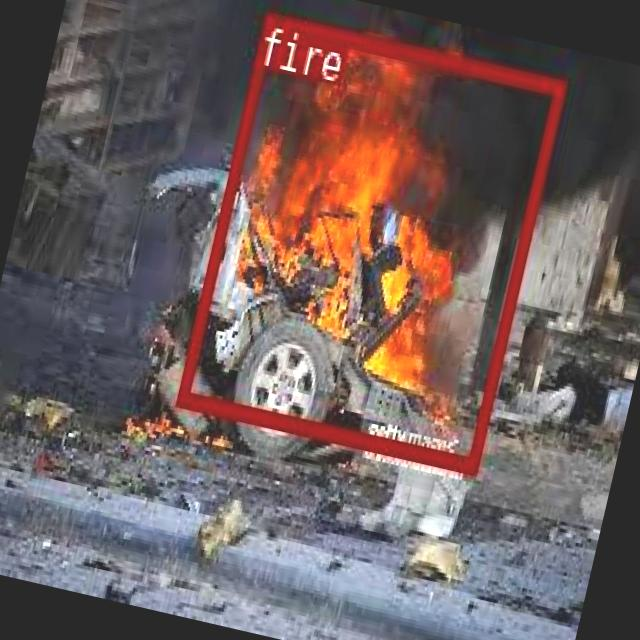fire: (173, 10, 565, 472)
